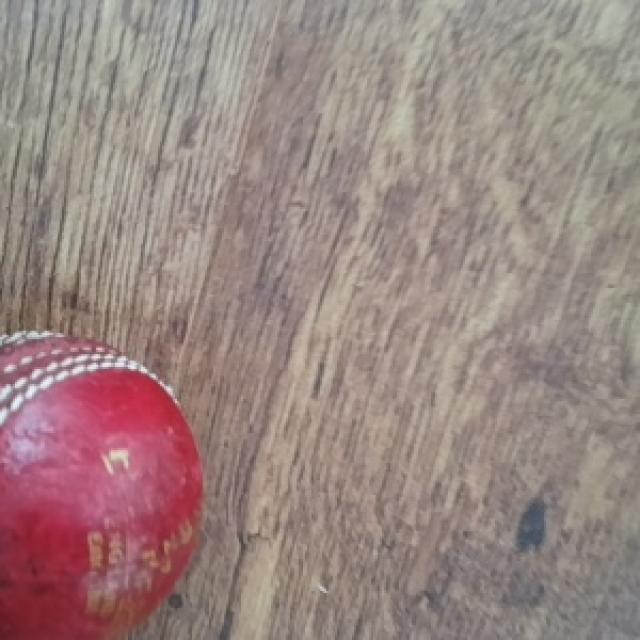ball: (0, 333, 207, 640)
